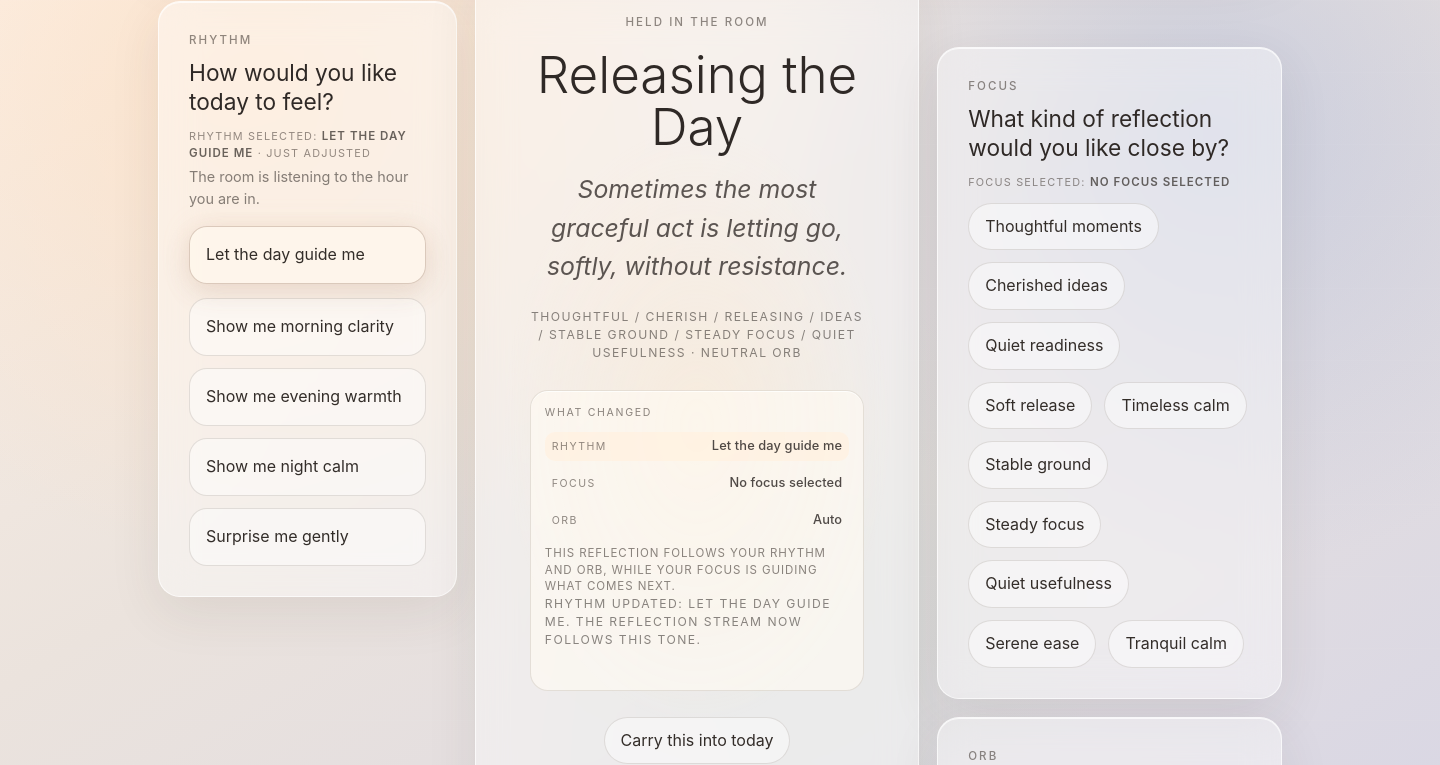
Scenario: Quiet Room › shows the selected focus in the room status
(page scrolled)
Click the button "Timeless calm" at {"x": 1176, "y": 405}, box [1104, 382, 1247, 429]
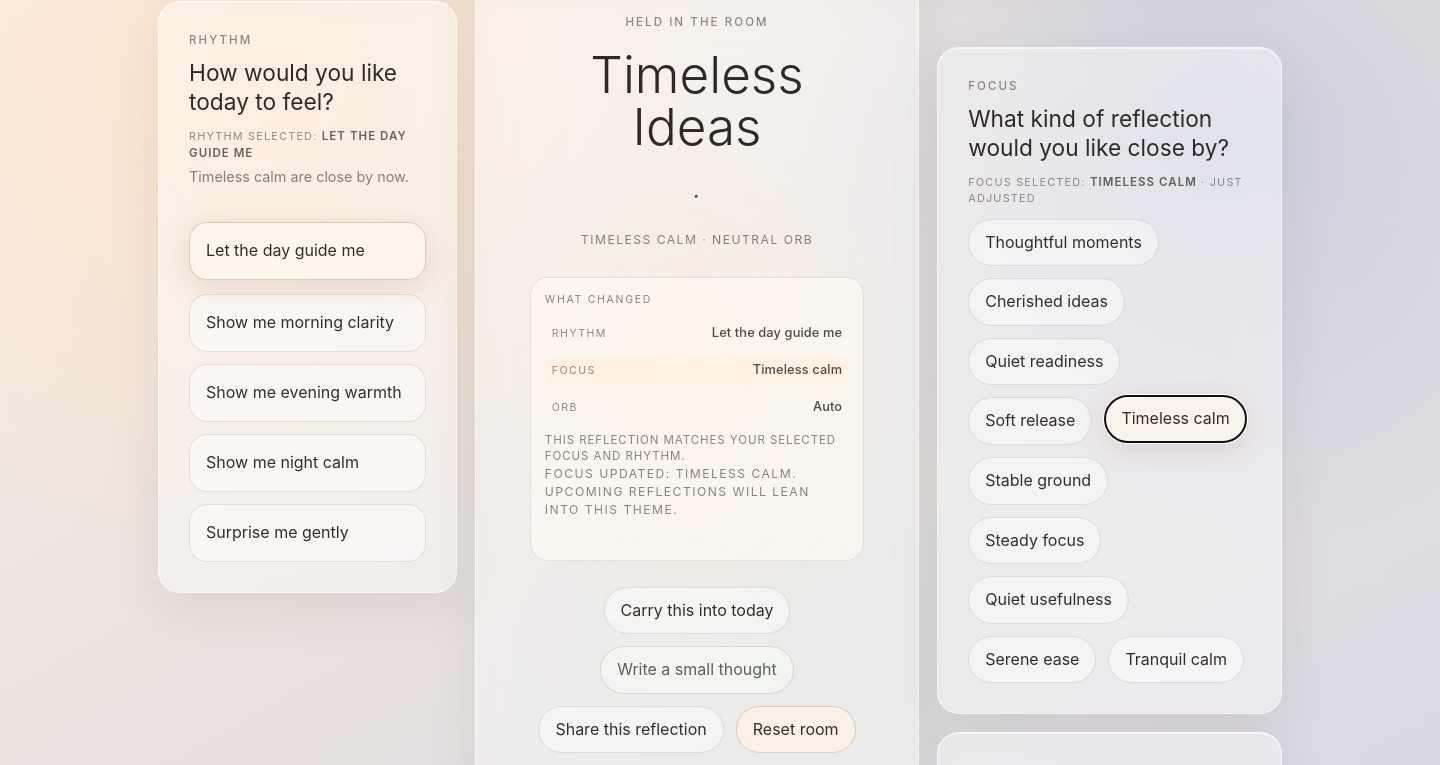
Expected: the text "Focus" below "What changed" is shown, [552, 364, 596, 377]
Result: the text "Timeless calm" below "What changed" is shown at [753, 362, 842, 377]
